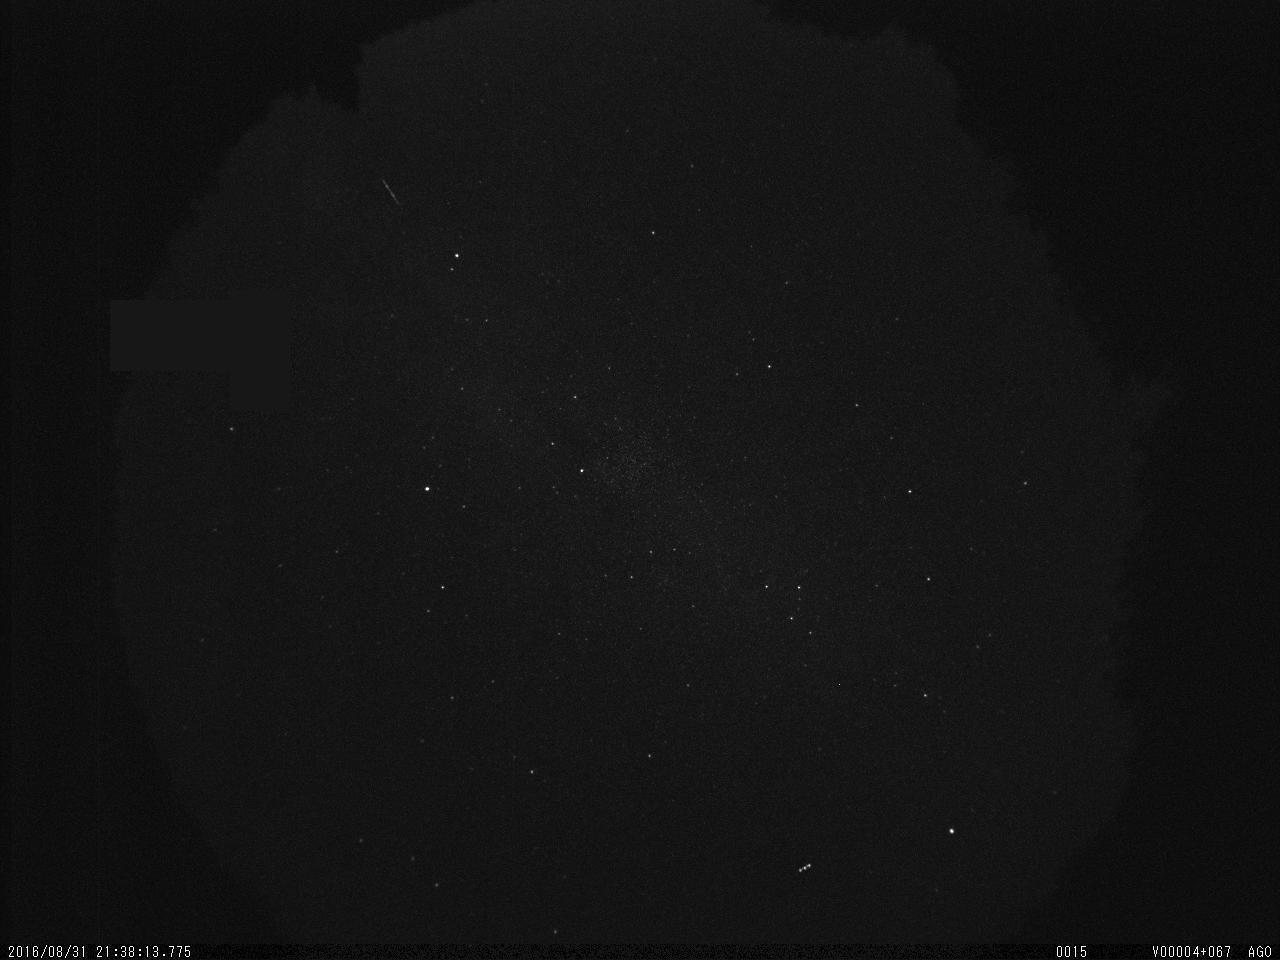Meteor: (379, 174, 404, 210)
